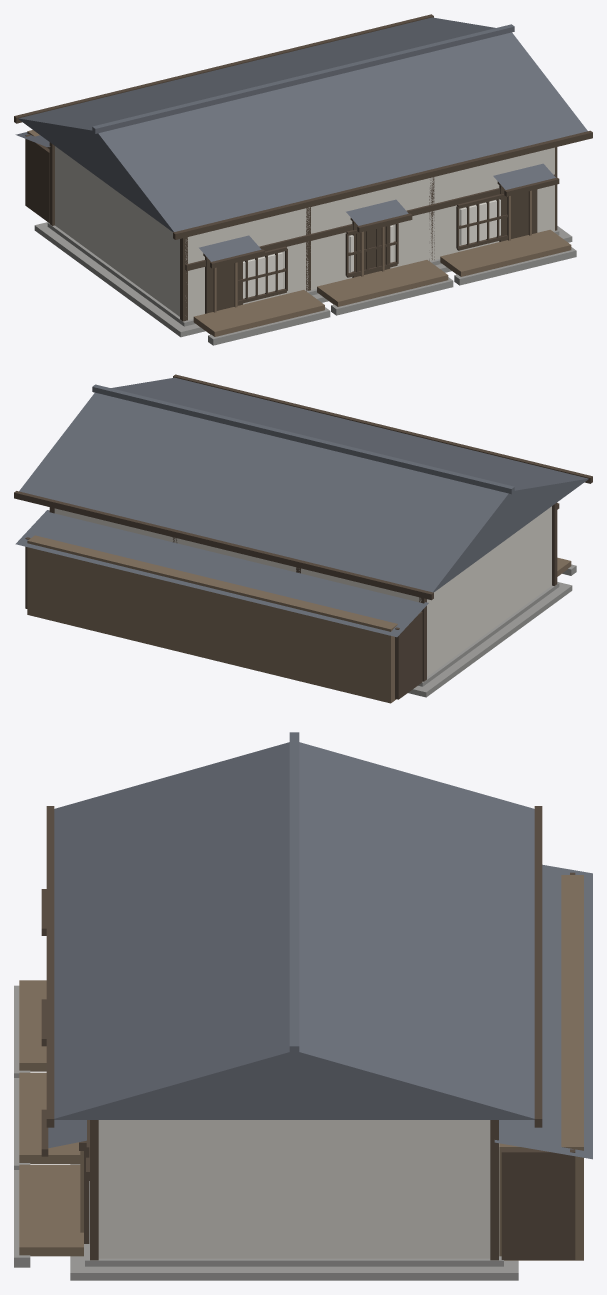
Rendered from family_nagaya_03bay.glb.
3 renders of one model, top to bottom at view 1: azimuth 30°, elevation 25°; view 2: azimuth 150°, elevation 25°; view 3: azimuth 270°, elevation 25°, orthographic. The views are drawn at different scales.
Visible parts, largest first — view 1: family_nagaya_03bay; view 2: family_nagaya_03bay; view 3: family_nagaya_03bay.
Boxes of the visible parts, x1,y1,x2,y2 form: family_nagaya_03bay: [14, 14, 592, 345]; family_nagaya_03bay: [14, 374, 592, 703]; family_nagaya_03bay: [14, 732, 592, 1280].
Bounding box in the file's own units: 13.62 × 4.95 × 10.61.
